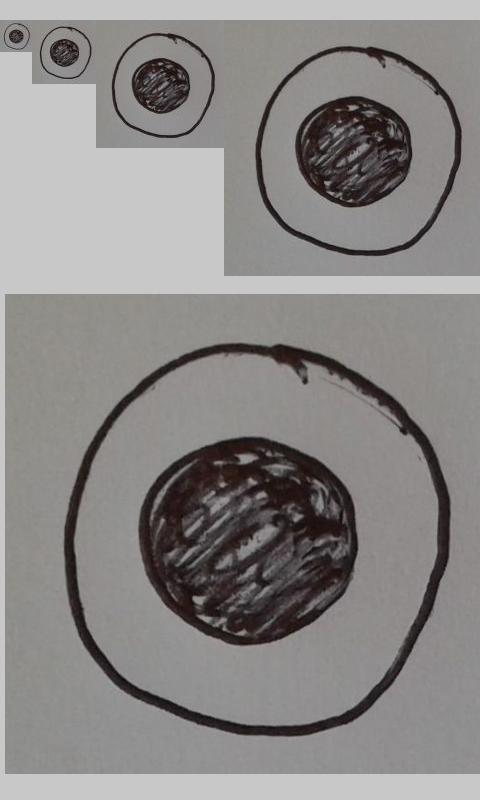radio_button: (59, 341, 454, 739), (254, 44, 463, 258), (111, 32, 216, 138), (39, 26, 92, 80), (3, 22, 30, 50)
